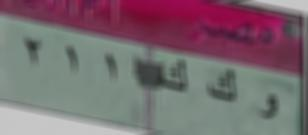1: (102, 48, 123, 84), (61, 42, 80, 77)
2: (22, 32, 46, 70)
kaaf: (155, 58, 196, 100), (205, 62, 238, 110)
waw: (253, 86, 279, 128)
